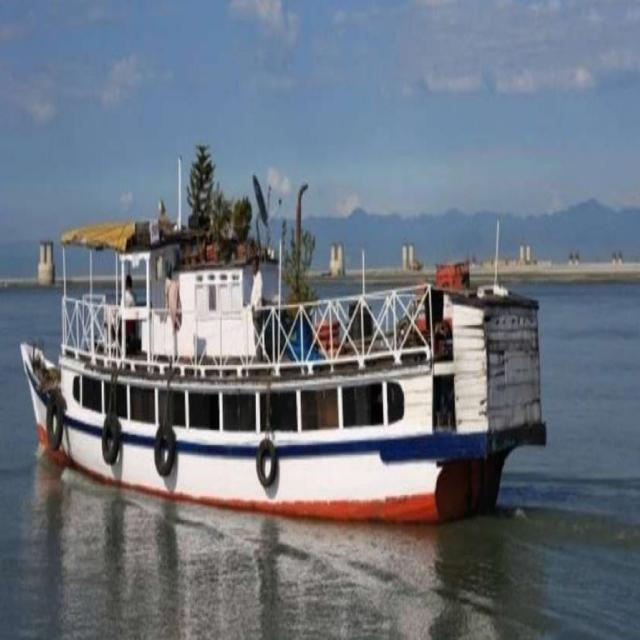houseboat: (33, 39, 571, 538)
